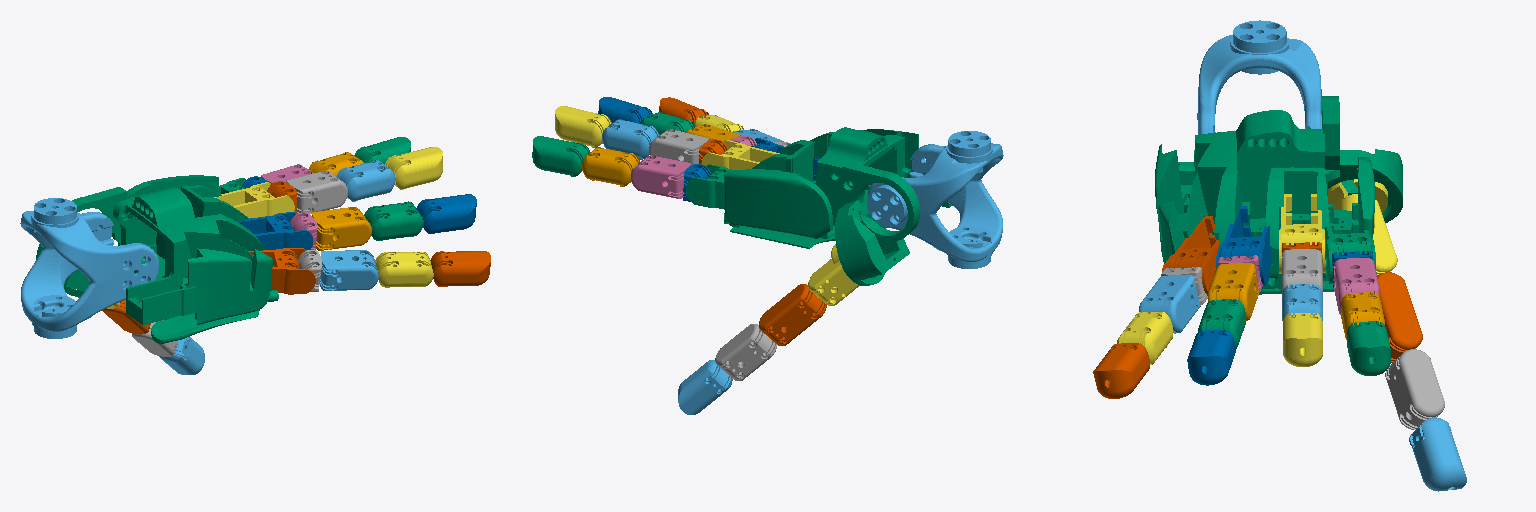
--- Facts derived from the render (not from the file) ---
3 views of the same robot in one strip: view 1: azimuth 30°, elevation 25°; view 2: azimuth 150°, elevation 25°; view 3: azimuth 270°, elevation 25° (orthographic).
Model hopejr_hand with 46 links and 45 joints (40 revolute, 5 fixed), rooted at base_footprint, posed all joints at 0 but 1 set to mid-range because 0 is outside their limits (thumb_mcp_2 = -1.52).
Links seen in each view (by area): view 1: hand, base_link, pinky_pip, ring_pip, pinky_dip_2, ring_dip_2, pinky_dip_1, middle_pip, ring_dip_1, middle_dip_2, ring_mcp_1, pinky_mcp_1 (+8 smaller); view 2: hand, base_link, thumb_pip_1, thumb_pip_2, index_pip, thumb_dip, index_dip_2, middle_dip_2, index_dip_1, middle_dip_1, thumb_mcp_2, middle_pip (+5 smaller); view 3: hand, base_link, thumb_pip_2, thumb_dip, thumb_pip_1, pinky_dip_2, pinky_pip, ring_dip_2, index_dip_2, middle_dip_2, thumb_mcp_2, pinky_mcp_1 (+10 smaller).
Link boxes in pixels (left/top/right/bottom): hand: left=36, top=175, right=278, bottom=343; base_link: left=20, top=198, right=158, bottom=338; pinky_pip: left=320, top=250, right=378, bottom=290; ring_pip: left=312, top=207, right=371, bottom=250; pinky_dip_2: left=430, top=251, right=490, bottom=286; ring_dip_2: left=416, top=194, right=476, bottom=233; pinky_dip_1: left=375, top=252, right=433, bottom=287; middle_pip: left=286, top=171, right=347, bottom=213; ring_dip_1: left=364, top=201, right=423, bottom=240; middle_dip_2: left=385, top=147, right=442, bottom=189; ring_mcp_1: left=237, top=212, right=312, bottom=249; pinky_mcp_1: left=249, top=248, right=315, bottom=294; hand: left=724, top=127, right=952, bottom=285; base_link: left=867, top=131, right=1003, bottom=268; thumb_pip_1: left=759, top=284, right=826, bottom=345; thumb_pip_2: left=715, top=324, right=776, bottom=380; index_pip: left=631, top=155, right=690, bottom=198; thumb_dip: left=678, top=360, right=732, bottom=414; index_dip_2: left=532, top=136, right=589, bottom=176; middle_dip_2: left=555, top=106, right=611, bottom=147; index_dip_1: left=582, top=147, right=639, bottom=186; middle_dip_1: left=602, top=119, right=659, bottom=159; thumb_mcp_2: left=808, top=244, right=859, bottom=305; middle_pip: left=649, top=129, right=708, bottom=165; hand: left=1155, top=96, right=1402, bottom=294; base_link: left=1197, top=20, right=1321, bottom=134; thumb_pip_2: left=1385, top=349, right=1444, bottom=429; thumb_dip: left=1409, top=417, right=1466, bottom=491; thumb_pip_1: left=1377, top=272, right=1422, bottom=362; pinky_dip_2: left=1093, top=343, right=1149, bottom=398; pinky_pip: left=1139, top=275, right=1200, bottom=333; ring_dip_2: left=1187, top=329, right=1235, bottom=385; index_dip_2: left=1347, top=321, right=1390, bottom=375; middle_dip_2: left=1283, top=313, right=1322, bottom=366; thumb_mcp_2: left=1328, top=179, right=1397, bottom=275; pinky_mcp_1: left=1162, top=216, right=1218, bottom=295.
Size in the robot's own frame: 0.2252 by 0.1399 by 0.1384 metres.
26 mesh visuals loaded from 11 distinct referenced files (11 Collada DAE).

URDF robot description (hopejr_hand):
<?xml version="1.0" ?>
<!-- =================================================================================== -->
<!-- |    This document was autogenerated by xacro from ./hopejr_hand.xacro            | -->
<!-- |    EDITING THIS FILE BY HAND IS NOT RECOMMENDED                                 | -->
<!-- =================================================================================== -->
<robot name="hopejr_hand">
  <link name="base_footprint"/>
  <link name="base_link">
    <visual>
      <origin rpy="0.0 0 0" xyz="0 0 0"/>
      <geometry>
        <mesh filename="package://hopejr_hand_description/meshes/visual/base_link.dae" scale="0.1 0.1 0.1"/>
      </geometry>
    </visual>
    <collision>
      <origin rpy="0 0 0" xyz="0 0 0"/>
      <geometry>
        <mesh filename="package://hopejr_hand_description/meshes/collision/base_link.stl" scale="0.1 0.1 0.1"/>
      </geometry>
    </collision>
    <inertial>
      <origin rpy="0 0 0" xyz="-0.02 0 0.028"/>
      <mass value="0.03323"/>
      <inertia ixx="0.000018824494" ixy="-0.000000571474" ixz="-0.000000041098" iyy="0.00001505929" iyz="0.000000023636" izz="0.000013661405"/>
    </inertial>
  </link>
  <link name="hand">
    <visual>
      <origin rpy="0 0 0" xyz="0 0 0"/>
      <geometry>
        <mesh filename="package://hopejr_hand_description/meshes/visual/hand.dae" scale="0.1 0.1 0.1"/>
      </geometry>
    </visual>
    <collision>
      <origin rpy="0 0 0" xyz="0 0 0"/>
      <geometry>
        <mesh filename="package://hopejr_hand_description/meshes/collision/hand.stl" scale="0.1 0.1 0.1"/>
      </geometry>
    </collision>
    <inertial>
      <origin rpy="0 0 0" xyz="0 0 0"/>
      <mass value="0.252893"/>
      <inertia ixx="0.0002839" ixy="0.000003336317" ixz="0.000004077546" iyy="0.0001891" iyz="0.000000331897" izz="0.0001469"/>
    </inertial>
  </link>
  <joint name="wrist_pitch" type="revolute">
    <parent link="base_link"/>
    <child link="hand"/>
    <origin rpy="0 1.5707963267948966 0" xyz="0.029887000000000004 0.007923 0"/>
    <axis xyz="0 1 0"/>
    <limit effort="10" lower="-1.3089969389957472" upper="1.3962634015954636" velocity="1.0"/>
  </joint>
  <link name="thumb_mcp_2">
    <visual>
      <origin rpy="0 0 0" xyz="0 0 0"/>
      <geometry>
        <mesh filename="package://hopejr_hand_description/meshes/visual/thumb_mcp_2.dae" scale="0.1 0.1 0.1"/>
      </geometry>
    </visual>
    <collision>
      <origin rpy="0 0 0" xyz="0 0 0"/>
      <geometry>
        <mesh filename="package://hopejr_hand_description/meshes/collision/thumb_mcp_2.stl" scale="0.1 0.1 0.1"/>
      </geometry>
    </collision>
    <inertial>
      <origin rpy="0 0 0" xyz="0 0 0"/>
      <mass value="0.008776"/>
      <inertia ixx="0.000000783215" ixy="0.000000007992" ixz="0.000000266897" iyy="0.000000932685" iyz="-0.000000055174" izz="0.000000534905"/>
    </inertial>
  </link>
  <joint name="thumb_mcp_2" type="revolute">
    <parent link="hand"/>
    <child link="thumb_mcp_2"/>
    <origin rpy="2.722713633111154 0.19198621771937624 -1.1693705988362009" xyz="0.019772 0.028618 0.0058046"/>
    <axis xyz="0 0 1"/>
    <limit effort="10" lower="-3" upper="-0.043" velocity="1.0"/>
  </joint>
  <link name="thumb_pip_1_support">
    <inertial>
      <origin rpy="0 0 0" xyz="0 0 0"/>
      <mass value="0.0000000000001"/>
      <inertia ixx="0.00000000000001" ixy="0" ixz="0" iyy="0.00000000000001" iyz="0" izz="0.00000000000001"/>
    </inertial>
  </link>
  <joint name="thumb_pip_1_support" type="revolute">
    <parent link="thumb_mcp_2"/>
    <child link="thumb_pip_1_support"/>
    <origin rpy="-2.748893571891069 1.1192796493039634 -0.36257469880930204" xyz="0.01180315 -0.0012147500000000001 -0.0229186"/>
    <axis xyz="0 -1 0"/>
    <limit effort="10" lower="0" upper="1.1780972450961724" velocity="1.0"/>
    <mimic joint="thumb_pip_1"/>
  </joint>
  <link name="thumb_pip_1">
    <visual>
      <origin rpy="0 0 0" xyz="0 0 0"/>
      <geometry>
        <mesh filename="package://hopejr_hand_description/meshes/visual/thumb_pip_1.dae" scale="0.1 0.1 0.1"/>
      </geometry>
    </visual>
    <collision>
      <origin rpy="0 0 0" xyz="0 0 0"/>
      <geometry>
        <mesh filename="package://hopejr_hand_description/meshes/collision/thumb_pip_1.stl" scale="0.1 0.1 0.1"/>
      </geometry>
    </collision>
    <inertial>
      <origin rpy="0 0 0" xyz="0 0 0"/>
      <mass value="0.007142"/>
      <inertia ixx="0.000000233324" ixy="-0.000000000007" ixz="0.00000000023" iyy="0.000000597862" iyz="0.000000000054" izz="0.000000638412"/>
    </inertial>
  </link>
  <joint name="thumb_pip_1" type="revolute">
    <parent link="thumb_pip_1_support"/>
    <child link="thumb_pip_1"/>
    <origin rpy="0 0 0" xyz="0.0152 0 0"/>
    <axis xyz="0 -1 0"/>
    <limit effort="10" lower="0" upper="1.1780972450961724" velocity="1.0"/>
  </joint>
  <link name="thumb_pip_2_support">
    <inertial>
      <origin rpy="0 0 0" xyz="0 0 0"/>
      <mass value="0.0000000000001"/>
      <inertia ixx="0.00000000000001" ixy="0" ixz="0" iyy="0.00000000000001" iyz="0" izz="0.00000000000001"/>
    </inertial>
  </link>
  <joint name="thumb_pip_2_support" type="revolute">
    <parent link="thumb_pip_1"/>
    <child link="thumb_pip_2_support"/>
    <origin rpy="0 0 0" xyz="0.016800000000000002 0 0"/>
    <axis xyz="0 -1 0"/>
    <limit effort="10" lower="0" upper="1.1780972450961724" velocity="1.0"/>
    <mimic joint="thumb_pip_2"/>
  </joint>
  <link name="thumb_pip_2">
    <visual>
      <origin rpy="0 0 0" xyz="0 0 0"/>
      <geometry>
        <mesh filename="package://hopejr_hand_description/meshes/visual/thumb_pip_2.dae" scale="0.1 0.1 0.1"/>
      </geometry>
    </visual>
    <collision>
      <origin rpy="0 0 0" xyz="0 0 0"/>
      <geometry>
        <mesh filename="package://hopejr_hand_description/meshes/collision/thumb_pip_2.stl" scale="0.1 0.1 0.1"/>
      </geometry>
    </collision>
    <inertial>
      <origin rpy="0 0 0" xyz="0 0 0"/>
      <mass value="0.006089"/>
      <inertia ixx="0.000000197597" ixy="-0.000000000005" ixz="0.00000000043" iyy="0.000000404632" iyz="0.000000000054" izz="0.000000440963"/>
    </inertial>
  </link>
  <joint name="thumb_pip_2" type="revolute">
    <parent link="thumb_pip_2_support"/>
    <child link="thumb_pip_2"/>
    <origin rpy="0 0 0" xyz="0.0152 0 0"/>
    <axis xyz="0 -1 0"/>
    <limit effort="10" lower="0" upper="1.1780972450961724" velocity="1.0"/>
  </joint>
  <link name="thumb_dip_support">
    <inertial>
      <origin rpy="0 0 0" xyz="0 0 0"/>
      <mass value="0.0000000000001"/>
      <inertia ixx="0.00000000000001" ixy="0" ixz="0" iyy="0.00000000000001" iyz="0" izz="0.00000000000001"/>
    </inertial>
  </link>
  <joint name="thumb_dip_support" type="revolute">
    <parent link="thumb_pip_2"/>
    <child link="thumb_dip_support"/>
    <origin rpy="0 0 0" xyz="0.0128 0 0"/>
    <axis xyz="0 -1 0"/>
    <limit effort="10" lower="0" upper="1.1780972450961724" velocity="1.0"/>
    <mimic joint="thumb_dip"/>
  </joint>
  <link name="thumb_dip">
    <visual>
      <origin rpy="0 0 0" xyz="0 0 0"/>
      <geometry>
        <mesh filename="package://hopejr_hand_description/meshes/visual/thumb_dip.dae" scale="0.1 0.1 0.1"/>
      </geometry>
    </visual>
    <collision>
      <origin rpy="0 0 0" xyz="0 0 0"/>
      <geometry>
        <mesh filename="package://hopejr_hand_description/meshes/collision/thumb_dip.stl" scale="0.1 0.1 0.1"/>
      </geometry>
    </collision>
    <inertial>
      <origin rpy="0 0 0" xyz="0 0 0"/>
      <mass value="0.005429"/>
      <inertia ixx="0.000000155671" ixy="0.000000000024" ixz="0.000000002166" iyy="0.00000033961" iyz="0.000000000002" izz="0.000000357923"/>
    </inertial>
  </link>
  <joint name="thumb_dip" type="revolute">
    <parent link="thumb_dip_support"/>
    <child link="thumb_dip"/>
    <origin rpy="0 0 0" xyz="0.0152 0 0"/>
    <axis xyz="0 -1 0"/>
    <limit effort="10" lower="0" upper="1.1780972450961724" velocity="1.0"/>
  </joint>
  <link name="index_mcp_1">
    <visual>
      <origin rpy="0 0 0" xyz="0 0 0"/>
      <geometry>
        <mesh filename="package://hopejr_hand_description/meshes/visual/mcp_1.dae" scale="0.1 0.1 0.1"/>
      </geometry>
    </visual>
    <collision>
      <origin rpy="0 0 0" xyz="0 0 0"/>
      <geometry>
        <mesh filename="package://hopejr_hand_description/meshes/collision/mcp_1.stl" scale="0.1 0.1 0.1"/>
      </geometry>
    </collision>
    <inertial>
      <origin rpy="0 0 0" xyz="0 0 0"/>
      <mass value="0.004836"/>
      <inertia ixx="0.000000235908" ixy="-0.000000006556" ixz="0.000000001806" iyy="0.000000740439" iyz="0.000000000035" izz="0.000000830731"/>
    </inertial>
  </link>
  <joint name="index_mcp_1" type="fixed">
    <parent link="hand"/>
    <child link="index_mcp_1"/>
    <origin rpy="-1.5494858566280458 -1.4832331582223413 1.5600625518951317" xyz="0.0071613 0.025677000000000002 0.085375"/>
    <axis xyz="0 1 0"/>
  </joint>
  <link name="index_mcp_2_support">
    <inertial>
      <origin rpy="0 0 0" xyz="0 0 0"/>
      <mass value="0.0000000000001"/>
      <inertia ixx="0.00000000000001" ixy="0" ixz="0" iyy="0.00000000000001" iyz="0" izz="0.00000000000001"/>
    </inertial>
  </link>
  <joint name="index_mcp_2_support" type="revolute">
    <parent link="index_mcp_1"/>
    <child link="index_mcp_2_support"/>
    <origin rpy="0 0 0" xyz="0 0 0"/>
    <axis xyz="0 1 0"/>
    <limit effort="10" lower="0" upper="1.1780972450961724" velocity="1.0"/>
    <mimic joint="index_mcp_2"/>
  </joint>
  <link name="index_mcp_2">
    <visual>
      <origin rpy="0 0 0" xyz="0 0 0"/>
      <geometry>
        <mesh filename="package://hopejr_hand_description/meshes/visual/mcp_2.dae" scale="0.1 0.1 0.1"/>
      </geometry>
    </visual>
    <collision>
      <origin rpy="0 0 0" xyz="0 0 0"/>
      <geometry>
        <mesh filename="package://hopejr_hand_description/meshes/collision/mcp_2.stl" scale="0.1 0.1 0.1"/>
      </geometry>
    </collision>
    <inertial>
      <origin rpy="0 0 0" xyz="0 0 0"/>
      <mass value="0.001654"/>
      <inertia ixx="0.000000049479" ixy="0.000000000263" ixz="0.000000000299" iyy="0.000000032432" iyz="0.000000000057" izz="0.000000038462"/>
    </inertial>
  </link>
  <joint name="index_mcp_2" type="revolute">
    <parent link="index_mcp_2_support"/>
    <child link="index_mcp_2"/>
    <origin rpy="0 0 0" xyz="0.0152 0 0"/>
    <axis xyz="0 1 0"/>
    <limit effort="10" lower="0" upper="1.1780972450961724" velocity="1.0"/>
  </joint>
  <link name="index_pip_support">
    <inertial>
      <origin rpy="0 0 0" xyz="0 0 0"/>
      <mass value="0.0000000000001"/>
      <inertia ixx="0.00000000000001" ixy="0" ixz="0" iyy="0.00000000000001" iyz="0" izz="0.00000000000001"/>
    </inertial>
  </link>
  <joint name="index_pip_support" type="revolute">
    <parent link="index_mcp_2"/>
    <child link="index_pip_support"/>
    <origin rpy="0 0 0" xyz="-0.019513500000000003 0 0"/>
    <axis xyz="0 0 1"/>
    <limit effort="10" lower="-0.41538836197465046" upper="0.41538836197465046" velocity="1.0"/>
    <mimic joint="index_pip"/>
  </joint>
  <link name="index_pip">
    <visual>
      <origin rpy="0 0 0" xyz="0 0 0"/>
      <geometry>
        <mesh filename="package://hopejr_hand_description/meshes/visual/pip.dae" scale="0.1 0.1 0.1"/>
      </geometry>
    </visual>
    <collision>
      <origin rpy="0 0 0" xyz="0 0 0"/>
      <geometry>
        <mesh filename="package://hopejr_hand_description/meshes/collision/pip.stl" scale="0.1 0.1 0.1"/>
      </geometry>
    </collision>
    <inertial>
      <origin rpy="0 0 0" xyz="0 0 0"/>
      <mass value="0.005708"/>
      <inertia ixx="0.00000018835" ixy="0.00000001165" ixz="0.000000000165" iyy="0.000000372084" iyz="-0.000000000039" izz="0.00000039757"/>
    </inertial>
  </link>
  <joint name="index_pip" type="revolute">
    <parent link="index_pip_support"/>
    <child link="index_pip"/>
    <origin rpy="0 0 0" xyz="0.043500000000000004 0 0"/>
    <axis xyz="0 0 1"/>
    <limit effort="10" lower="-0.41538836197465046" upper="0.41538836197465046" velocity="1.0"/>
  </joint>
  <link name="index_dip_1_support">
    <inertial>
      <origin rpy="0 0 0" xyz="0 0 0"/>
      <mass value="0.0000000000001"/>
      <inertia ixx="0.00000000000001" ixy="0" ixz="0" iyy="0.00000000000001" iyz="0" izz="0.00000000000001"/>
    </inertial>
  </link>
  <joint name="index_dip_1_support" type="revolute">
    <parent link="index_pip"/>
    <child link="index_dip_1_support"/>
    <origin rpy="0 0 0" xyz="-0.0029132000000000003 0 0"/>
    <axis xyz="0 1 0"/>
    <limit effort="10" lower="0" upper="1.1780972450961724" velocity="1.0"/>
    <mimic joint="index_dip_1"/>
  </joint>
  <link name="index_dip_1">
    <visual>
      <origin rpy="0 0 0" xyz="0 0 0"/>
      <geometry>
        <mesh filename="package://hopejr_hand_description/meshes/visual/dip_1.dae" scale="0.1 0.1 0.1"/>
      </geometry>
    </visual>
    <collision>
      <origin rpy="0 0 0" xyz="0 0 0"/>
      <geometry>
        <mesh filename="package://hopejr_hand_description/meshes/collision/dip_1.stl" scale="0.1 0.1 0.1"/>
      </geometry>
    </collision>
    <inertial>
      <origin rpy="0 0 0" xyz="0 0 0"/>
      <mass value="0.005093"/>
      <inertia ixx="0.000000143621" ixy="-0.00000000003" ixz="0.000000000091" iyy="0.000000290288" iyz="-0.000000000079" izz="0.000000314107"/>
    </inertial>
  </link>
  <joint name="index_dip_1" type="revolute">
    <parent link="index_dip_1_support"/>
    <child link="index_dip_1"/>
    <origin rpy="0 0 0" xyz="0.0152 0 0"/>
    <axis xyz="0 1 0"/>
    <limit effort="10" lower="0" upper="1.1780972450961724" velocity="1.0"/>
  </joint>
  <link name="index_dip_2_support">
    <inertial>
      <origin rpy="0 0 0" xyz="0 0 0"/>
      <mass value="0.0000000000001"/>
      <inertia ixx="0.00000000000001" ixy="0" ixz="0" iyy="0.00000000000001" iyz="0" izz="0.00000000000001"/>
    </inertial>
  </link>
  <joint name="index_dip_2_support" type="revolute">
    <parent link="index_dip_1"/>
    <child link="index_dip_2_support"/>
    <origin rpy="0 0 0" xyz="0.0106 0 0"/>
    <axis xyz="0 1 0"/>
    <limit effort="10" lower="0" upper="1.1780972450961724" velocity="1.0"/>
    <mimic joint="index_dip_2"/>
  </joint>
  <link name="index_dip_2">
    <visual>
      <origin rpy="0 0 0" xyz="0 0 0"/>
      <geometry>
        <mesh filename="package://hopejr_hand_description/meshes/visual/dip_2.dae" scale="0.1 0.1 0.1"/>
      </geometry>
    </visual>
    <collision>
      <origin rpy="0 0 0" xyz="0 0 0"/>
      <geometry>
        <mesh filename="package://hopejr_hand_description/meshes/collision/dip_2.stl" scale="0.1 0.1 0.1"/>
      </geometry>
    </collision>
    <inertial>
      <origin rpy="0 0 0" xyz="0 0 0"/>
      <mass value="0.005429"/>
      <inertia ixx="0.000000155634" ixy="0.000000000003" ixz="-0.000000002159" iyy="0.000000339577" iyz="-0.000000000002" izz="0.000000357884"/>
    </inertial>
  </link>
  <joint name="index_dip_2" type="revolute">
    <parent link="index_dip_2_support"/>
    <child link="index_dip_2"/>
    <origin rpy="0 0 0" xyz="0.0152 0 0"/>
    <axis xyz="0 1 0"/>
    <limit effort="10" lower="0" upper="1.1780972450961724" velocity="1.0"/>
    <mimic joint="index_dip_1" multiplier="0.8" offset="0"/>
  </joint>
  <link name="middle_mcp_1">
    <visual>
      <origin rpy="0 0 0" xyz="0 0 0"/>
      <geometry>
        <mesh filename="package://hopejr_hand_description/meshes/visual/mcp_1.dae" scale="0.1 0.1 0.1"/>
      </geometry>
    </visual>
    <collision>
      <origin rpy="0 0 0" xyz="0 0 0"/>
      <geometry>
        <mesh filename="package://hopejr_hand_description/meshes/collision/mcp_1.stl" scale="0.1 0.1 0.1"/>
      </geometry>
    </collision>
    <inertial>
      <origin rpy="0 0 0" xyz="0 0 0"/>
      <mass value="0.004836"/>
      <inertia ixx="0.000000235908" ixy="-0.000000006556" ixz="0.000000001806" iyy="0.000000740439" iyz="0.000000000035" izz="0.000000830731"/>
    </inertial>
  </link>
  <joint name="middle_mcp_1" type="fixed">
    <parent link="hand"/>
    <child link="middle_mcp_1"/>
    <origin rpy="-1.3877985547232912 -1.5656650587940333 1.3991257415687344" xyz="0.0024581 0.007775400000000001 0.08732200000000001"/>
    <axis xyz="0 1 0"/>
  </joint>
  <link name="middle_mcp_2_support">
    <inertial>
      <origin rpy="0 0 0" xyz="0 0 0"/>
      <mass value="0.0000000000001"/>
      <inertia ixx="0.00000000000001" ixy="0" ixz="0" iyy="0.00000000000001" iyz="0" izz="0.00000000000001"/>
    </inertial>
  </link>
  <joint name="middle_mcp_2_support" type="revolute">
    <parent link="middle_mcp_1"/>
    <child link="middle_mcp_2_support"/>
    <origin rpy="0 0 0" xyz="0 0 0"/>
    <axis xyz="0 1 0"/>
    <limit effort="10" lower="0" upper="1.1780972450961724" velocity="1.0"/>
    <mimic joint="middle_mcp_2"/>
  </joint>
  <link name="middle_mcp_2">
    <visual>
      <origin rpy="0 0 0" xyz="0 0 0"/>
      <geometry>
        <mesh filename="package://hopejr_hand_description/meshes/visual/mcp_2.dae" scale="0.1 0.1 0.1"/>
      </geometry>
    </visual>
    <collision>
      <origin rpy="0 0 0" xyz="0 0 0"/>
      <geometry>
        <mesh filename="package://hopejr_hand_description/meshes/collision/mcp_2.stl" scale="0.1 0.1 0.1"/>
      </geometry>
    </collision>
    <inertial>
      <origin rpy="0 0 0" xyz="0 0 0"/>
      <mass value="0.001654"/>
      <inertia ixx="0.000000049479" ixy="0.000000000263" ixz="0.000000000299" iyy="0.000000032432" iyz="0.000000000057" izz="0.000000038462"/>
    </inertial>
  </link>
  <joint name="middle_mcp_2" type="revolute">
    <parent link="middle_mcp_2_support"/>
    <child link="middle_mcp_2"/>
    <origin rpy="0 0 0" xyz="0.0152 0 0"/>
    <axis xyz="0 1 0"/>
    <limit effort="10" lower="0" upper="1.1780972450961724" velocity="1.0"/>
  </joint>
  <link name="middle_pip_support">
    <inertial>
      <origin rpy="0 0 0" xyz="0 0 0"/>
      <mass value="0.0000000000001"/>
      <inertia ixx="0.00000000000001" ixy="0" ixz="0" iyy="0.00000000000001" iyz="0" izz="0.00000000000001"/>
    </inertial>
  </link>
  <joint name="middle_pip_support" type="revolute">
    <parent link="middle_mcp_2"/>
    <child link="middle_pip_support"/>
    <origin rpy="0 0 0" xyz="-0.019513500000000003 0 0"/>
    <axis xyz="0 0 1"/>
    <limit effort="10" lower="-0.41538836197465046" upper="0.41538836197465046" velocity="1.0"/>
    <mimic joint="middle_pip"/>
  </joint>
  <link name="middle_pip">
    <visual>
      <origin rpy="0 0 0" xyz="0 0 0"/>
      <geometry>
        <mesh filename="package://hopejr_hand_description/meshes/visual/pip.dae" scale="0.1 0.1 0.1"/>
      </geometry>
    </visual>
    <collision>
      <origin rpy="0 0 0" xyz="0 0 0"/>
      <geometry>
        <mesh filename="package://hopejr_hand_description/meshes/collision/pip.stl" scale="0.1 0.1 0.1"/>
      </geometry>
    </collision>
    <inertial>
      <origin rpy="0 0 0" xyz="0 0 0"/>
      <mass value="0.005708"/>
      <inertia ixx="0.00000018835" ixy="0.00000001165" ixz="0.000000000165" iyy="0.000000372084" iyz="-0.000000000039" izz="0.00000039757"/>
    </inertial>
  </link>
  <joint name="middle_pip" type="revolute">
    <parent link="middle_pip_support"/>
    <child link="middle_pip"/>
    <origin rpy="0 0 0" xyz="0.043500000000000004 0 0"/>
    <axis xyz="0 0 1"/>
    <limit effort="10" lower="-0.41538836197465046" upper="0.41538836197465046" velocity="1.0"/>
  </joint>
  <link name="middle_dip_1_support">
    <inertial>
      <origin rpy="0 0 0" xyz="0 0 0"/>
      <mass value="0.0000000000001"/>
      <inertia ixx="0.00000000000001" ixy="0" ixz="0" iyy="0.00000000000001" iyz="0" izz="0.00000000000001"/>
    </inertial>
  </link>
  <joint name="middle_dip_1_support" type="revolute">
    <parent link="middle_pip"/>
    <child link="middle_dip_1_support"/>
    <origin rpy="0 0 0" xyz="-0.0029132000000000003 0 0"/>
    <axis xyz="0 1 0"/>
    <limit effort="10" lower="0" upper="1.1780972450961724" velocity="1.0"/>
    <mimic joint="middle_dip_1"/>
  </joint>
  <link name="middle_dip_1">
    <visual>
      <origin rpy="0 0 0" xyz="0 0 0"/>
      <geometry>
        <mesh filename="package://hopejr_hand_description/meshes/visual/dip_1.dae" scale="0.1 0.1 0.1"/>
      </geometry>
    </visual>
    <collision>
      <origin rpy="0 0 0" xyz="0 0 0"/>
      <geometry>
        <mesh filename="package://hopejr_hand_description/meshes/collision/dip_1.stl" scale="0.1 0.1 0.1"/>
      </geometry>
    </collision>
    <inertial>
      <origin rpy="0 0 0" xyz="0 0 0"/>
      <mass value="0.005093"/>
      <inertia ixx="0.000000143621" ixy="-0.00000000003" ixz="0.000000000091" iyy="0.000000290288" iyz="-0.000000000079" izz="0.000000314107"/>
    </inertial>
  </link>
  <joint name="middle_dip_1" type="revolute">
    <parent link="middle_dip_1_support"/>
    <child link="middle_dip_1"/>
    <origin rpy="0 0 0" xyz="0.0152 0 0"/>
    <axis xyz="0 1 0"/>
    <limit effort="10" lower="0" upper="1.1780972450961724" velocity="1.0"/>
  </joint>
  <link name="middle_dip_2_support">
    <inertial>
      <origin rpy="0 0 0" xyz="0 0 0"/>
      <mass value="0.0000000000001"/>
      <inertia ixx="0.00000000000001" ixy="0" ixz="0" iyy="0.00000000000001" iyz="0" izz="0.00000000000001"/>
    </inertial>
  </link>
  <joint name="middle_dip_2_support" type="revolute">
    <parent link="middle_dip_1"/>
    <child link="middle_dip_2_support"/>
    <origin rpy="0 0 0" xyz="0.0106 0 0"/>
    <axis xyz="0 1 0"/>
    <limit effort="10" lower="0" upper="1.1780972450961724" velocity="1.0"/>
    <mimic joint="middle_dip_2"/>
  </joint>
  <link name="middle_dip_2">
    <visual>
      <origin rpy="0 0 0" xyz="0 0 0"/>
      <geometry>
        <mesh filename="package://hopejr_hand_description/meshes/visual/dip_2.dae" scale="0.1 0.1 0.1"/>
      </geometry>
    </visual>
    <collision>
      <origin rpy="0 0 0" xyz="0 0 0"/>
      <geometry>
        <mesh filename="package://hopejr_hand_description/meshes/collision/dip_2.stl" scale="0.1 0.1 0.1"/>
      </geometry>
    </collision>
    <inertial>
      <origin rpy="0 0 0" xyz="0 0 0"/>
      <mass value="0.005429"/>
      <inertia ixx="0.000000155634" ixy="0.000000000003" ixz="-0.000000002159" iyy="0.000000339577" iyz="-0.000000000002" izz="0.000000357884"/>
    </inertial>
  </link>
  <joint name="middle_dip_2" type="revolute">
    <parent link="middle_dip_2_support"/>
    <child link="middle_dip_2"/>
    <origin rpy="0 0 0" xyz="0.0152 0 0"/>
    <axis xyz="0 1 0"/>
    <limit effort="10" lower="0" upper="1.1780972450961724" velocity="1.0"/>
    <mimic joint="middle_dip_1" multiplier="0.8" offset="0"/>
  </joint>
  <link name="ring_mcp_1">
    <visual>
      <origin rpy="0 0 0" xyz="0 0 0"/>
      <geometry>
        <mesh filename="package://hopejr_hand_description/meshes/visual/mcp_1.dae" scale="0.1 0.1 0.1"/>
      </geometry>
    </visual>
    <collision>
      <origin rpy="0 0 0" xyz="0 0 0"/>
      <geometry>
        <mesh filename="package://hopejr_hand_description/meshes/collision/mcp_1.stl" scale="0.1 0.1 0.1"/>
      </geometry>
    </collision>
    <inertial>
      <origin rpy="0 0 0" xyz="0 0 0"/>
      <mass value="0.004836"/>
      <inertia ixx="0.000000235908" ixy="-0.000000006556" ixz="0.000000001806" iyy="0.000000740439" iyz="0.000000000035" izz="0.000000830731"/>
    </inertial>
  </link>
  <joint name="ring_mcp_1" type="fixed">
    <parent link="hand"/>
    <child link="ring_mcp_1"/>
    <origin rpy="-1.637136291663201 -1.7305812198149775 1.7657496042426633" xyz="0.0085778 -0.013244 0.08552"/>
    <axis xyz="0 1 0"/>
  </joint>
  <link name="ring_mcp_2_support">
    <inertial>
      <origin rpy="0 0 0" xyz="0 0 0"/>
      <mass value="0.0000000000001"/>
      <inertia ixx="0.00000000000001" ixy="0" ixz="0" iyy="0.00000000000001" iyz="0" izz="0.00000000000001"/>
    </inertial>
  </link>
  <joint name="ring_mcp_2_support" type="revolute">
    <parent link="ring_mcp_1"/>
    <child link="ring_mcp_2_support"/>
    <origin rpy="0 0 0" xyz="0 0 0"/>
    <axis xyz="0 1 0"/>
    <limit effort="10" lower="0" upper="1.1780972450961724" velocity="1.0"/>
    <mimic joint="ring_mcp_2"/>
  </joint>
  <link name="ring_mcp_2">
    <visual>
      <origin rpy="0 0 0" xyz="0 0 0"/>
      <geometry>
        <mesh filename="package://hopejr_hand_description/meshes/visual/mcp_2.dae" scale="0.1 0.1 0.1"/>
      </geometry>
    </visual>
    <collision>
      <origin rpy="0 0 0" xyz="0 0 0"/>
      <geometry>
        <mesh filename="package://hopejr_hand_description/meshes/collision/mcp_2.stl" scale="0.1 0.1 0.1"/>
      </geometry>
    </collision>
    <inertial>
      <origin rpy="0 0 0" xyz="0 0 0"/>
      <mass value="0.001654"/>
      <inertia ixx="0.000000049479" ixy="0.000000000263" ixz="0.000000000299" iyy="0.000000032432" iyz="0.000000000057" izz="0.000000038462"/>
    </inertial>
  </link>
  <joint name="ring_mcp_2" type="revolute">
    <parent link="ring_mcp_2_support"/>
    <child link="ring_mcp_2"/>
    <origin rpy="0 0 0" xyz="0.0152 0 0"/>
    <axis xyz="0 1 0"/>
    <limit effort="10" lower="0" upper="1.1780972450961724" velocity="1.0"/>
  </joint>
  <link name="ring_pip_support">
    <inertial>
      <origin rpy="0 0 0" xyz="0 0 0"/>
      <mass value="0.0000000000001"/>
      <inertia ixx="0.00000000000001" ixy="0" ixz="0" iyy="0.00000000000001" iyz="0" izz="0.00000000000001"/>
    </inertial>
  </link>
  <joint name="ring_pip_support" type="revolute">
    <parent link="ring_mcp_2"/>
    <child link="ring_pip_support"/>
    <origin rpy="0 0 0" xyz="-0.019513500000000003 0 0"/>
    <axis xyz="0 0 1"/>
    <limit effort="10" lower="-0.41538836197465046" upper="0.41538836197465046" velocity="1.0"/>
    <mimic joint="ring_pip"/>
  </joint>
  <link name="ring_pip">
    <visual>
      <origin rpy="0 0 0" xyz="0 0 0"/>
      <geometry>
        <mesh filename="package://hopejr_hand_description/meshes/visual/pip.dae" scale="0.1 0.1 0.1"/>
      </geometry>
    </visual>
    <collision>
      <origin rpy="0 0 0" xyz="0 0 0"/>
      <geometry>
        <mesh filename="package://hopejr_hand_description/meshes/collision/pip.stl" scale="0.1 0.1 0.1"/>
      </geometry>
    </collision>
    <inertial>
      <origin rpy="0 0 0" xyz="0 0 0"/>
      <mass value="0.005708"/>
      <inertia ixx="0.00000018835" ixy="0.00000001165" ixz="0.000000000165" iyy="0.000000372084" iyz="-0.000000000039" izz="0.00000039757"/>
    </inertial>
  </link>
  <joint name="ring_pip" type="revolute">
    <parent link="ring_pip_support"/>
    <child link="ring_pip"/>
    <origin rpy="0 0 0" xyz="0.043500000000000004 0 0"/>
    <axis xyz="0 0 1"/>
    <limit effort="10" lower="-0.41538836197465046" upper="0.41538836197465046" velocity="1.0"/>
  </joint>
  <link name="ring_dip_1_support">
    <inertial>
      <origin rpy="0 0 0" xyz="0 0 0"/>
      <mass value="0.0000000000001"/>
      <inertia ixx="0.00000000000001" ixy="0" ixz="0" iyy="0.00000000000001" iyz="0" izz="0.00000000000001"/>
    </inertial>
  </link>
  <joint name="ring_dip_1_support" type="revolute">
    <parent link="ring_pip"/>
    <child link="ring_dip_1_support"/>
    <origin rpy="0 0 0" xyz="-0.0029132000000000003 0 0"/>
    <axis xyz="0 1 0"/>
    <limit effort="10" lower="0" upper="1.1780972450961724" velocity="1.0"/>
    <mimic joint="ring_dip_1"/>
  </joint>
  <link name="ring_dip_1">
    <visual>
      <origin rpy="0 0 0" xyz="0 0 0"/>
      <geometry>
        <mesh filename="package://hopejr_hand_description/meshes/visual/dip_1.dae" scale="0.1 0.1 0.1"/>
      </geometry>
    </visual>
    <collision>
      <origin rpy="0 0 0" xyz="0 0 0"/>
      <geometry>
        <mesh filename="package://hopejr_hand_description/meshes/collision/dip_1.stl" scale="0.1 0.1 0.1"/>
      </geometry>
    </collision>
    <inertial>
      <origin rpy="0 0 0" xyz="0 0 0"/>
      <mass value="0.005093"/>
      <inertia ixx="0.000000143621" ixy="-0.00000000003" ixz="0.000000000091" iyy="0.000000290288" iyz="-0.000000000079" izz="0.000000314107"/>
    </inertial>
  </link>
  <joint name="ring_dip_1" type="revolute">
    <parent link="ring_dip_1_support"/>
    <child link="ring_dip_1"/>
    <origin rpy="0 0 0" xyz="0.0152 0 0"/>
    <axis xyz="0 1 0"/>
    <limit effort="10" lower="0" upper="1.1780972450961724" velocity="1.0"/>
  </joint>
  <link name="ring_dip_2_support">
    <inertial>
      <origin rpy="0 0 0" xyz="0 0 0"/>
      <mass value="0.0000000000001"/>
      <inertia ixx="0.00000000000001" ixy="0" ixz="0" iyy="0.00000000000001" iyz="0" izz="0.00000000000001"/>
    </inertial>
  </link>
  <joint name="ring_dip_2_support" type="revolute">
    <parent link="ring_dip_1"/>
    <child link="ring_dip_2_support"/>
    <origin rpy="0 0 0" xyz="0.0106 0 0"/>
    <axis xyz="0 1 0"/>
    <limit effort="10" lower="0" upper="1.1780972450961724" velocity="1.0"/>
    <mimic joint="ring_dip_2"/>
  </joint>
  <link name="ring_dip_2">
    <visual>
      <origin rpy="0 0 0" xyz="0 0 0"/>
      <geometry>
        <mesh filename="package://hopejr_hand_description/meshes/visual/dip_2.dae" scale="0.1 0.1 0.1"/>
      </geometry>
    </visual>
    <collision>
      <origin rpy="0 0 0" xyz="0 0 0"/>
      <geometry>
        <mesh filename="package://hopejr_hand_description/meshes/collision/dip_2.stl" scale="0.1 0.1 0.1"/>
      </geometry>
    </collision>
    <inertial>
      <origin rpy="0 0 0" xyz="0 0 0"/>
      <mass value="0.005429"/>
      <inertia ixx="0.000000155634" ixy="0.000000000003" ixz="-0.000000002159" iyy="0.000000339577" iyz="-0.000000000002" izz="0.000000357884"/>
    </inertial>
  </link>
  <joint name="ring_dip_2" type="revolute">
    <parent link="ring_dip_2_support"/>
    <child link="ring_dip_2"/>
    <origin rpy="0 0 0" xyz="0.0152 0 0"/>
    <axis xyz="0 1 0"/>
    <limit effort="10" lower="0" upper="1.1780972450961724" velocity="1.0"/>
    <mimic joint="ring_dip_1" multiplier="0.8" offset="0"/>
  </joint>
  <link name="pinky_mcp_1">
    <visual>
      <origin rpy="0 0 0" xyz="0 0 0"/>
      <geometry>
        <mesh filename="package://hopejr_hand_description/meshes/visual/mcp_1.dae" scale="0.1 0.1 0.1"/>
      </geometry>
    </visual>
    <collision>
      <origin rpy="0 0 0" xyz="0 0 0"/>
      <geometry>
        <mesh filename="package://hopejr_hand_description/meshes/collision/mcp_1.stl" scale="0.1 0.1 0.1"/>
      </geometry>
    </collision>
    <inertial>
      <origin rpy="0 0 0" xyz="0 0 0"/>
      <mass value="0.004836"/>
      <inertia ixx="0.000000235908" ixy="-0.000000006556" ixz="0.000000001806" iyy="0.000000740439" iyz="0.000000000035" izz="0.000000830731"/>
    </inertial>
  </link>
  <joint name="pinky_mcp_1" type="fixed">
    <parent link="hand"/>
    <child link="pinky_mcp_1"/>
    <origin rpy="-1.5403403313475954 -1.9259708295757425 1.7599900177110819" xyz="0.016965 -0.031494 0.077426"/>
    <axis xyz="0 1 0"/>
  </joint>
  <link name="pinky_mcp_2_support">
    <inertial>
      <origin rpy="0 0 0" xyz="0 0 0"/>
      <mass value="0.0000000000001"/>
      <inertia ixx="0.00000000000001" ixy="0" ixz="0" iyy="0.00000000000001" iyz="0" izz="0.00000000000001"/>
    </inertial>
  </link>
  <joint name="pinky_mcp_2_support" type="revolute">
    <parent link="pinky_mcp_1"/>
    <child link="pinky_mcp_2_support"/>
    <origin rpy="0 0 0" xyz="0 0 0"/>
    <axis xyz="0 1 0"/>
    <limit effort="10" lower="0" upper="1.1780972450961724" velocity="1.0"/>
    <mimic joint="pinky_mcp_2"/>
  </joint>
  <link name="pinky_mcp_2">
    <visual>
      <origin rpy="0 0 0" xyz="0 0 0"/>
      <geometry>
        <mesh filename="package://hopejr_hand_description/meshes/visual/mcp_2.dae" scale="0.1 0.1 0.1"/>
      </geometry>
    </visual>
    <collision>
      <origin rpy="0 0 0" xyz="0 0 0"/>
      <geometry>
        <mesh filename="package://hopejr_hand_description/meshes/collision/mcp_2.stl" scale="0.1 0.1 0.1"/>
      </geometry>
    </collision>
    <inertial>
      <origin rpy="0 0 0" xyz="0 0 0"/>
      <mass value="0.001654"/>
      <inertia ixx="0.000000049479" ixy="0.000000000263" ixz="0.000000000299" iyy="0.000000032432" iyz="0.000000000057" izz="0.000000038462"/>
    </inertial>
  </link>
  <joint name="pinky_mcp_2" type="revolute">
    <parent link="pinky_mcp_2_support"/>
    <child link="pinky_mcp_2"/>
    <origin rpy="0 0 0" xyz="0.0152 0 0"/>
    <axis xyz="0 1 0"/>
    <limit effort="10" lower="0" upper="1.1780972450961724" velocity="1.0"/>
  </joint>
  <link name="pinky_pip_support">
    <inertial>
      <origin rpy="0 0 0" xyz="0 0 0"/>
      <mass value="0.0000000000001"/>
      <inertia ixx="0.00000000000001" ixy="0" ixz="0" iyy="0.00000000000001" iyz="0" izz="0.00000000000001"/>
    </inertial>
  </link>
  <joint name="pinky_pip_support" type="revolute">
    <parent link="pinky_mcp_2"/>
    <child link="pinky_pip_support"/>
    <origin rpy="0 0 0" xyz="-0.019513500000000003 0 0"/>
    <axis xyz="0 0 1"/>
    <limit effort="10" lower="-0.41538836197465046" upper="0.41538836197465046" velocity="1.0"/>
    <mimic joint="pinky_pip"/>
  </joint>
  <link name="pinky_pip">
    <visual>
      <origin rpy="0 0 0" xyz="0 0 0"/>
      <geometry>
        <mesh filename="package://hopejr_hand_description/meshes/visual/pip.dae" scale="0.1 0.1 0.1"/>
      </geometry>
    </visual>
    <collision>
      <origin rpy="0 0 0" xyz="0 0 0"/>
      <geometry>
        <mesh filename="package://hopejr_hand_description/meshes/collision/pip.stl" scale="0.1 0.1 0.1"/>
      </geometry>
    </collision>
    <inertial>
      <origin rpy="0 0 0" xyz="0 0 0"/>
      <mass value="0.005708"/>
      <inertia ixx="0.00000018835" ixy="0.00000001165" ixz="0.000000000165" iyy="0.000000372084" iyz="-0.000000000039" izz="0.00000039757"/>
    </inertial>
  </link>
  <joint name="pinky_pip" type="revolute">
    <parent link="pinky_pip_support"/>
    <child link="pinky_pip"/>
    <origin rpy="0 0 0" xyz="0.043500000000000004 0 0"/>
    <axis xyz="0 0 1"/>
    <limit effort="10" lower="-0.41538836197465046" upper="0.41538836197465046" velocity="1.0"/>
  </joint>
  <link name="pinky_dip_1_support">
    <inertial>
      <origin rpy="0 0 0" xyz="0 0 0"/>
      <mass value="0.0000000000001"/>
      <inertia ixx="0.00000000000001" ixy="0" ixz="0" iyy="0.00000000000001" iyz="0" izz="0.00000000000001"/>
    </inertial>
  </link>
  <joint name="pinky_dip_1_support" type="revolute">
    <parent link="pinky_pip"/>
    <child link="pinky_dip_1_support"/>
    <origin rpy="0 0 0" xyz="-0.0029132000000000003 0 0"/>
    <axis xyz="0 1 0"/>
    <limit effort="10" lower="0" upper="1.1780972450961724" velocity="1.0"/>
    <mimic joint="pinky_dip_1"/>
  </joint>
  <link name="pinky_dip_1">
    <visual>
      <origin rpy="0 0 0" xyz="0 0 0"/>
      <geometry>
        <mesh filename="package://hopejr_hand_description/meshes/visual/dip_1.dae" scale="0.1 0.1 0.1"/>
      </geometry>
    </visual>
    <collision>
      <origin rpy="0 0 0" xyz="0 0 0"/>
      <geometry>
        <mesh filename="package://hopejr_hand_description/meshes/collision/dip_1.stl" scale="0.1 0.1 0.1"/>
      </geometry>
    </collision>
    <inertial>
      <origin rpy="0 0 0" xyz="0 0 0"/>
      <mass value="0.005093"/>
      <inertia ixx="0.000000143621" ixy="-0.00000000003" ixz="0.000000000091" iyy="0.000000290288" iyz="-0.000000000079" izz="0.000000314107"/>
    </inertial>
  </link>
  <joint name="pinky_dip_1" type="revolute">
    <parent link="pinky_dip_1_support"/>
    <child link="pinky_dip_1"/>
    <origin rpy="0 0 0" xyz="0.0152 0 0"/>
    <axis xyz="0 1 0"/>
    <limit effort="10" lower="0" upper="1.1780972450961724" velocity="1.0"/>
  </joint>
  <link name="pinky_dip_2_support">
    <inertial>
      <origin rpy="0 0 0" xyz="0 0 0"/>
      <mass value="0.0000000000001"/>
      <inertia ixx="0.00000000000001" ixy="0" ixz="0" iyy="0.00000000000001" iyz="0" izz="0.00000000000001"/>
    </inertial>
  </link>
  <joint name="pinky_dip_2_support" type="revolute">
    <parent link="pinky_dip_1"/>
    <child link="pinky_dip_2_support"/>
    <origin rpy="0 0 0" xyz="0.0106 0 0"/>
    <axis xyz="0 1 0"/>
    <limit effort="10" lower="0" upper="1.1780972450961724" velocity="1.0"/>
    <mimic joint="pinky_dip_2"/>
  </joint>
  <link name="pinky_dip_2">
    <visual>
      <origin rpy="0 0 0" xyz="0 0 0"/>
      <geometry>
        <mesh filename="package://hopejr_hand_description/meshes/visual/dip_2.dae" scale="0.1 0.1 0.1"/>
      </geometry>
    </visual>
    <collision>
      <origin rpy="0 0 0" xyz="0 0 0"/>
      <geometry>
        <mesh filename="package://hopejr_hand_description/meshes/collision/dip_2.stl" scale="0.1 0.1 0.1"/>
      </geometry>
    </collision>
    <inertial>
      <origin rpy="0 0 0" xyz="0 0 0"/>
      <mass value="0.005429"/>
      <inertia ixx="0.000000155634" ixy="0.000000000003" ixz="-0.000000002159" iyy="0.000000339577" iyz="-0.000000000002" izz="0.000000357884"/>
    </inertial>
  </link>
  <joint name="pinky_dip_2" type="revolute">
    <parent link="pinky_dip_2_support"/>
    <child link="pinky_dip_2"/>
    <origin rpy="0 0 0" xyz="0.0152 0 0"/>
    <axis xyz="0 1 0"/>
    <limit effort="10" lower="0" upper="1.1780972450961724" velocity="1.0"/>
    <mimic joint="pinky_dip_1" multiplier="0.8" offset="0"/>
  </joint>
  <joint name="base_link_fixed" type="fixed">
    <parent link="base_footprint"/>
    <child link="base_link"/>
    <origin rpy="0 0 0" xyz="0 0 0"/>
  </joint>
</robot>
